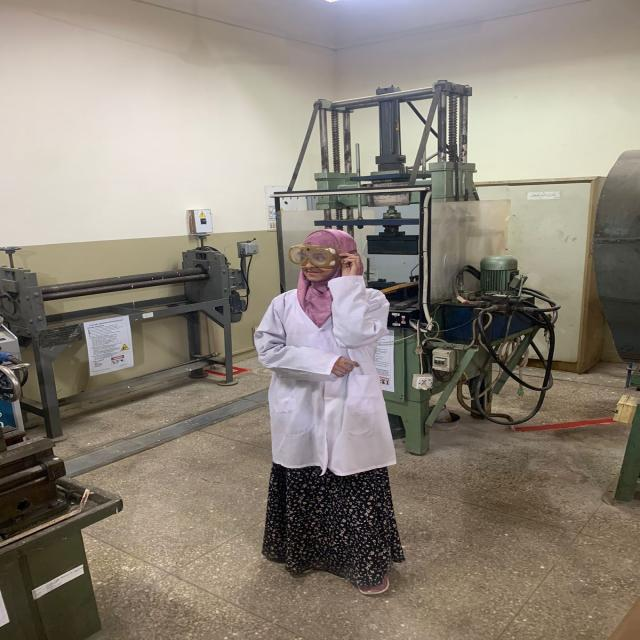googles: (286, 244, 339, 266)
labcoat: (252, 273, 398, 477)
